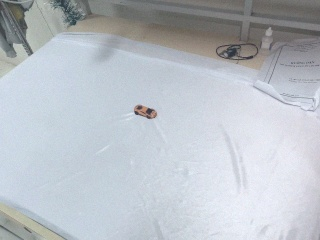toy_car: (133, 104, 157, 121)
